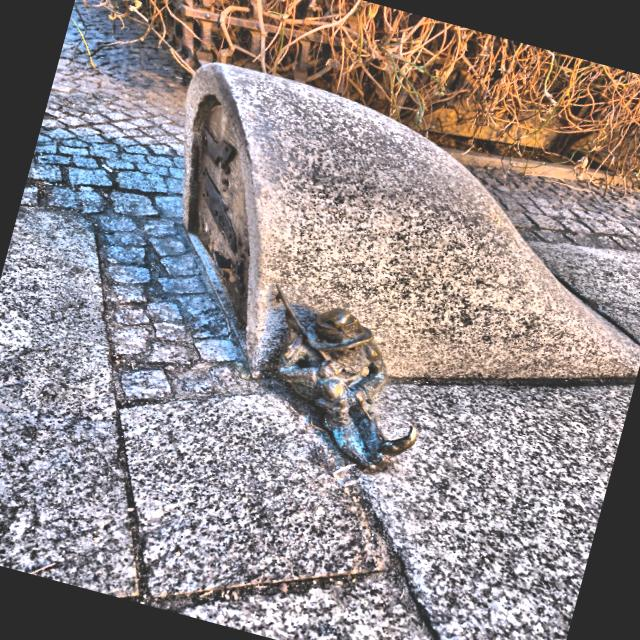Spioch: (275, 285, 416, 468)
